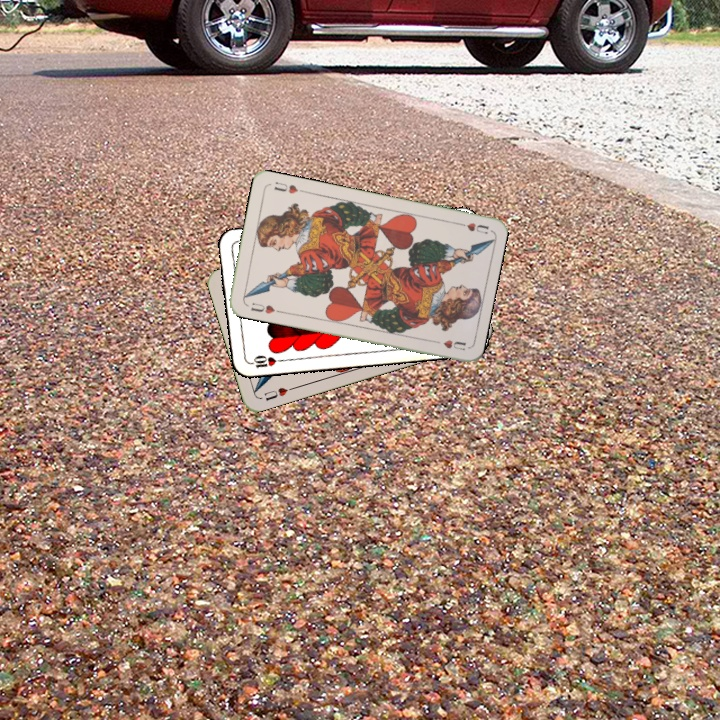H10: (245, 351, 286, 370)
HU: (260, 383, 297, 403), (452, 218, 491, 236), (247, 298, 283, 316)
